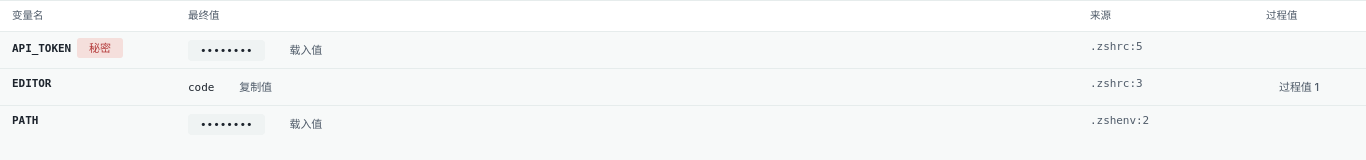
it: copying variable values › explains a failed copy beside the value
Click the button with aria-label "复制 EDITOR 的值".
click(256, 87)  # box [226,75,285,99]
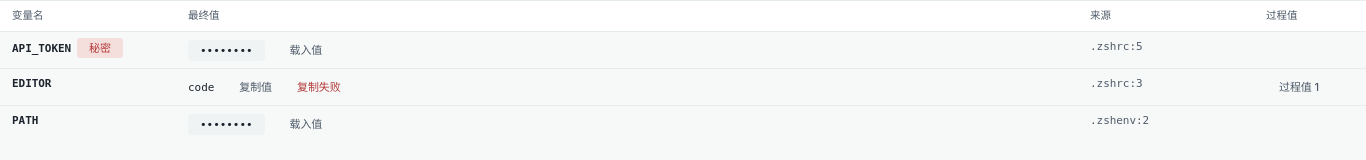
Expected: the message reads "复制失败", [297,80,341,94]
